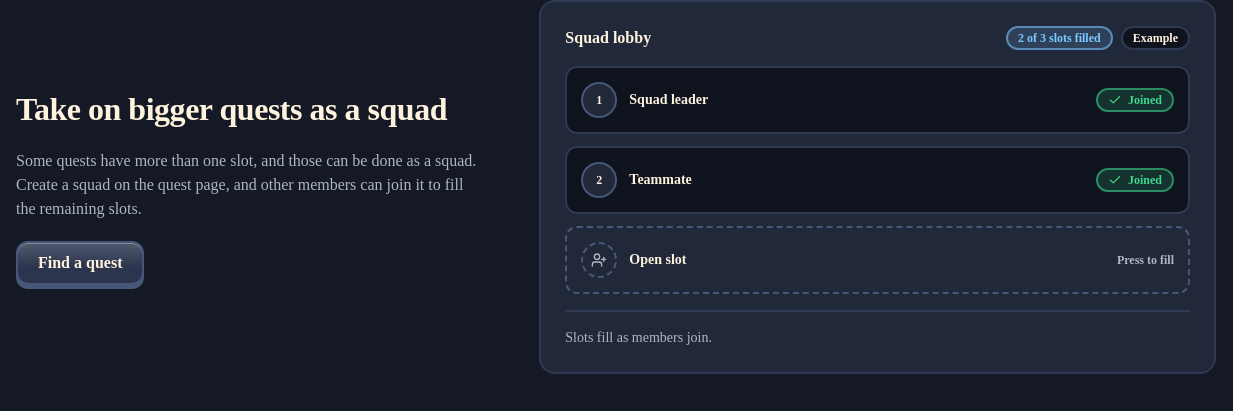
Scenario: SquadSection › lets the visitor fill the open slot and reset the example
Expected: the text with test id "party-slots-badge" reads "2 of 3 slots filled", top-left (1006, 26), bottom-right (1113, 50)
Click the button with test id "squad-slot-open".
click(599, 260)  # box top-left (565, 226), bottom-right (1190, 294)
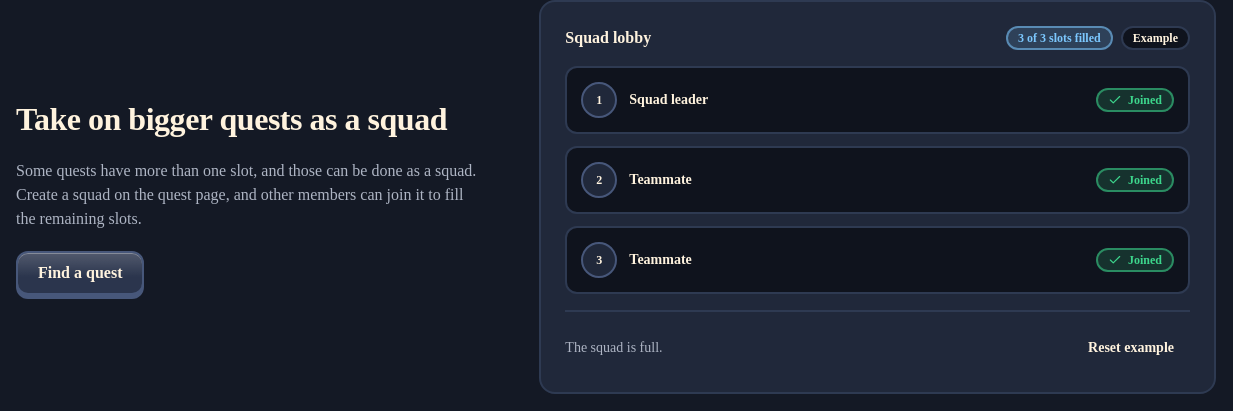
Now the text with test id "party-slots-badge" reads "3 of 3 slots filled", box top-left (1006, 26), bottom-right (1113, 50)
Now the button with test id "squad-slot-open" is gone
Now the text "The squad is full." is shown, box top-left (565, 338), bottom-right (662, 358)
Click the button "Reset example".
click(1131, 348)  # box top-left (1072, 328), bottom-right (1190, 368)
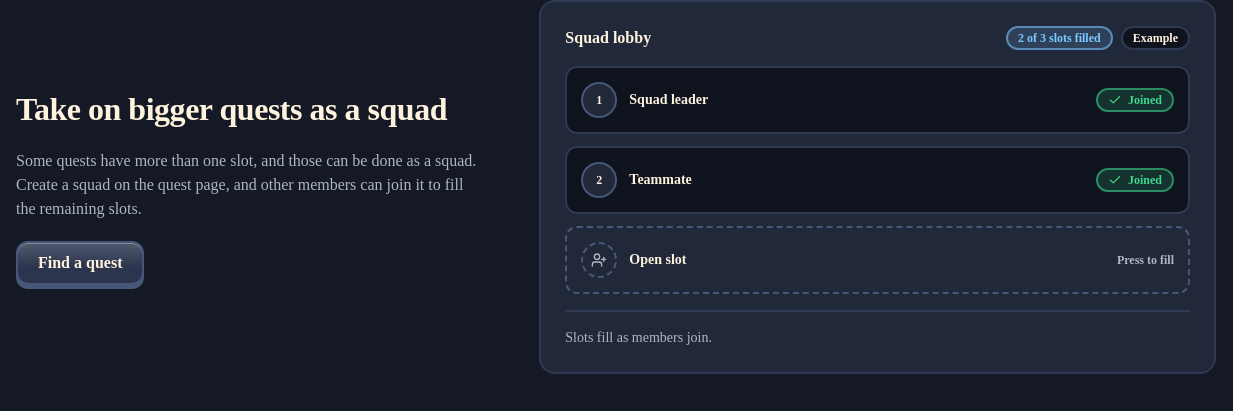
Now the text with test id "party-slots-badge" reads "2 of 3 slots filled", box top-left (1006, 26), bottom-right (1113, 50)
Now the button with test id "squad-slot-open" is shown, box top-left (565, 226), bottom-right (1190, 294)
